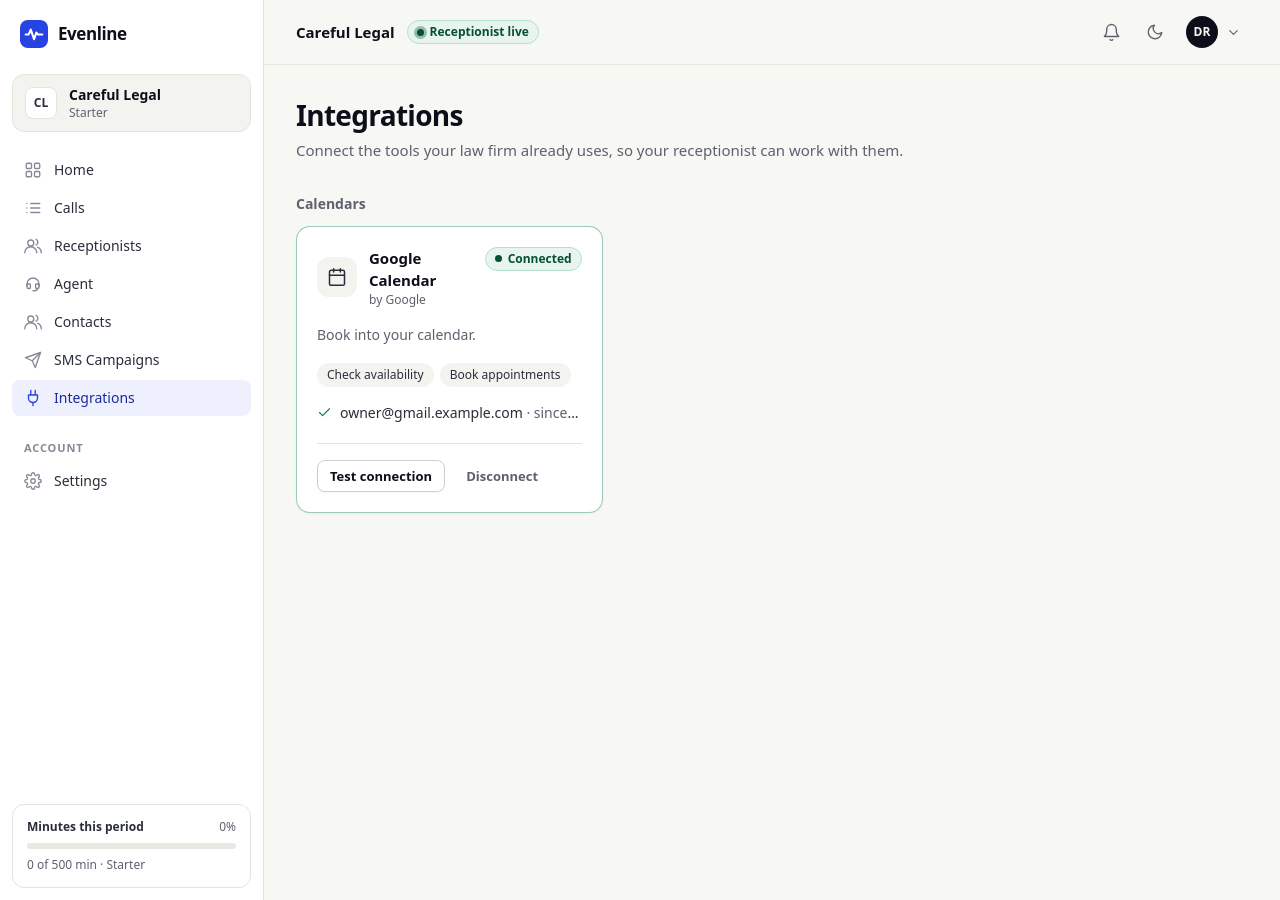
Integrations › shows a connection only when the API reports one
Expected: the text "Connected" is shown, [485,247,582,271]
Expected: the text "owner@gmail.example.com · since Sep 10, 2026" is shown, [340,402,582,422]
Step 1. Click the button "Test connection" → coordinates (381, 476), box [317,460,445,492]
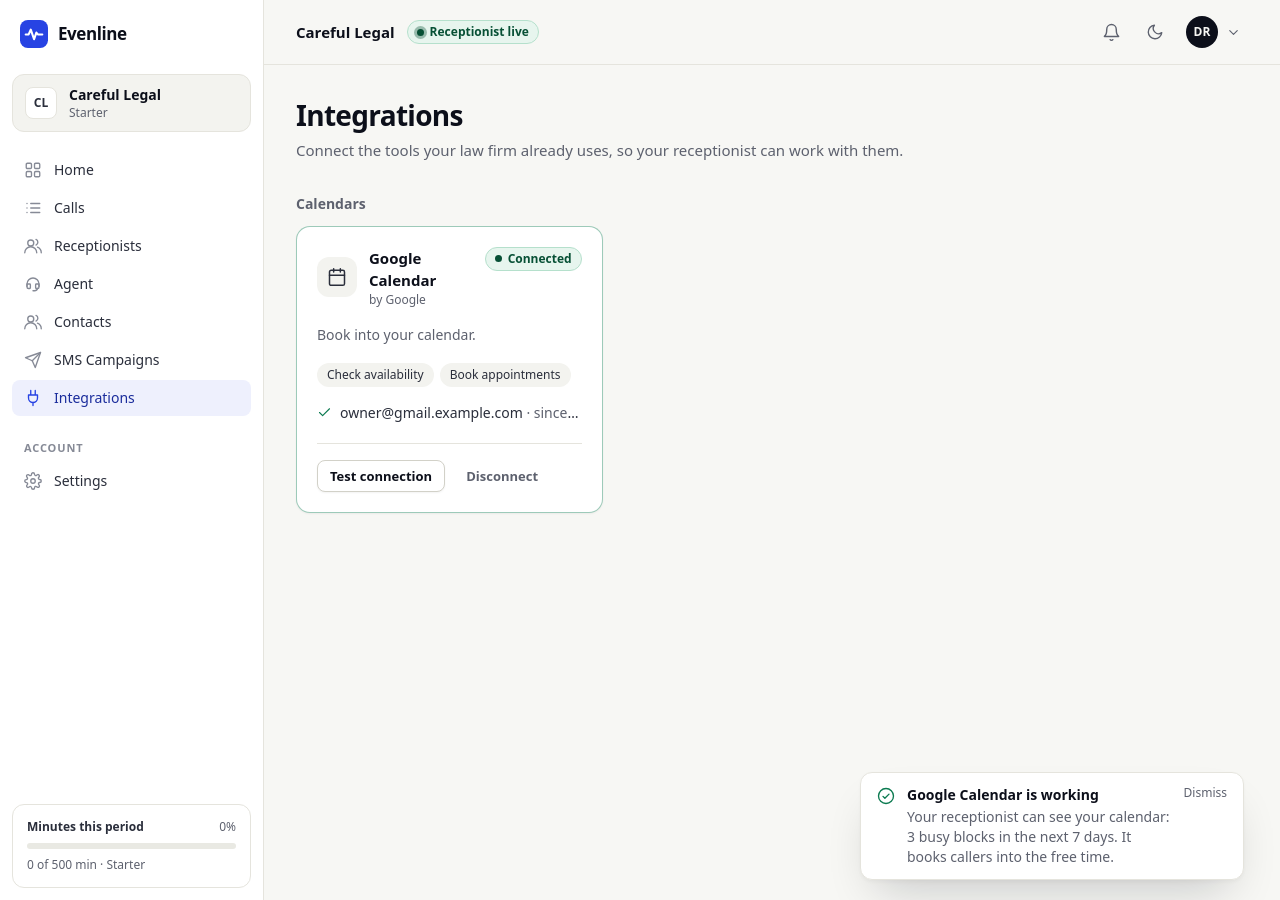
Now the text "3 busy blocks in the next 7 days" is shown, box [907,807,1170,866]
